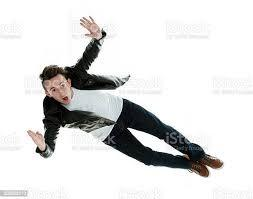fallen: (18, 30, 225, 180)
